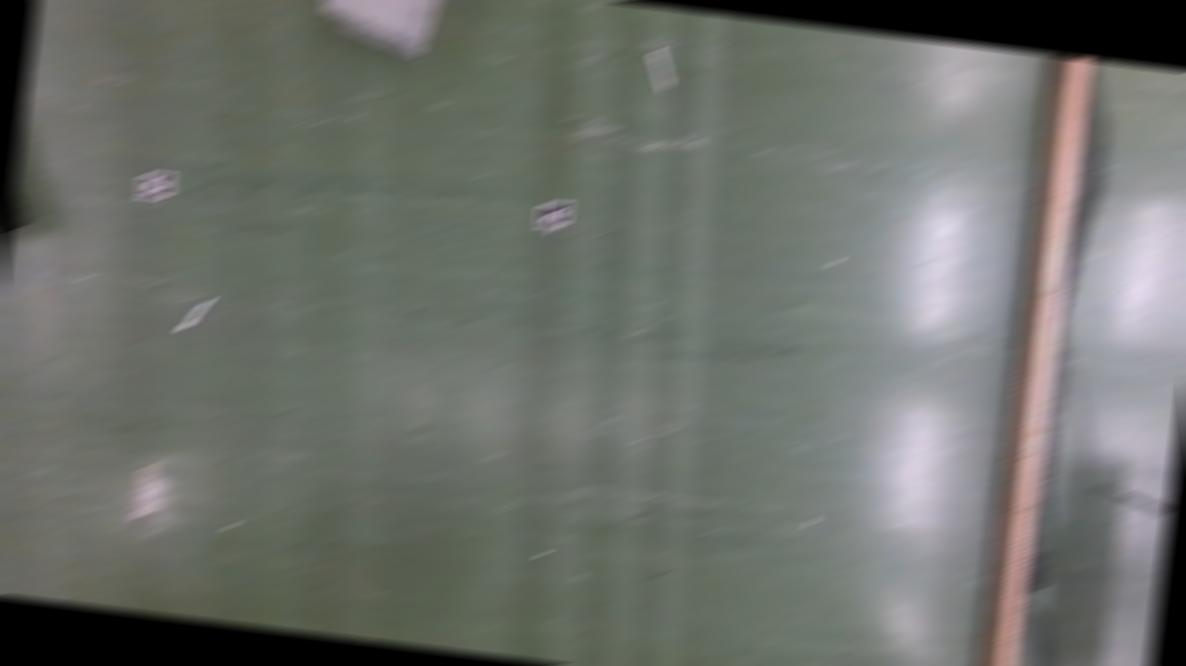probes: (646, 50, 676, 92), (178, 298, 212, 334)
rako: (315, 1, 454, 61)
